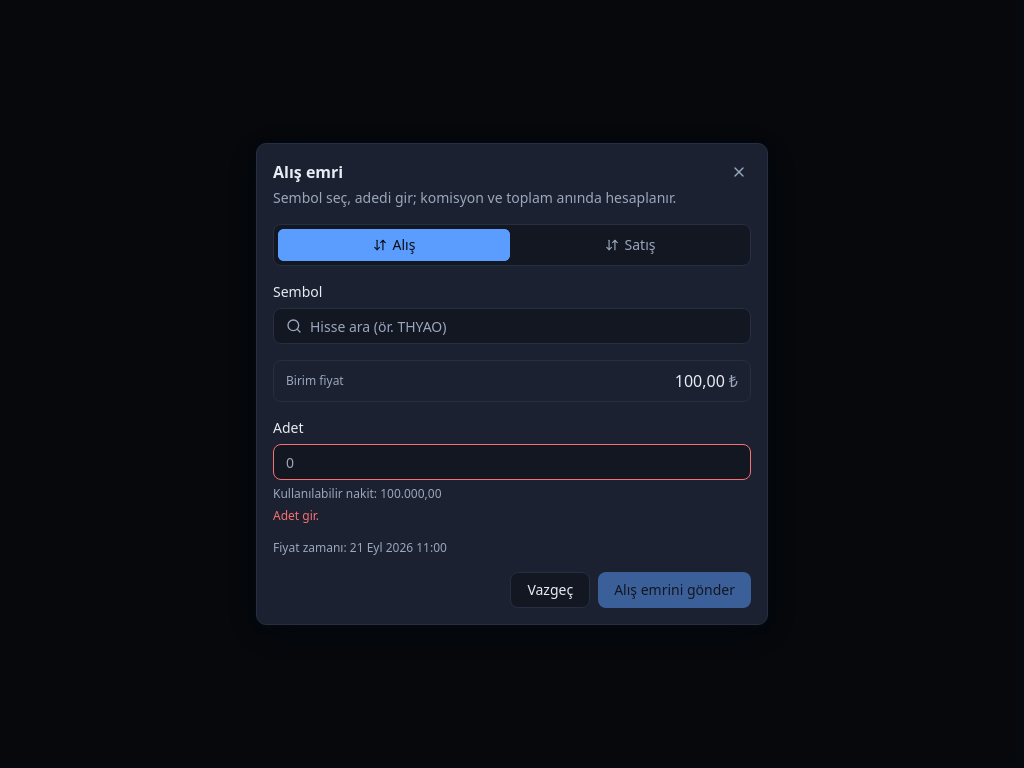
TradeDialog — seans kapısı (U-04) › backend error_market_closed dönerse i18n mesajını gösterir
expect the text "100,00" is shown: met, box [675,370,725,392]
Type "10" into the field labelled "Adet" at coordinates (512, 462), box [273,444,751,480]
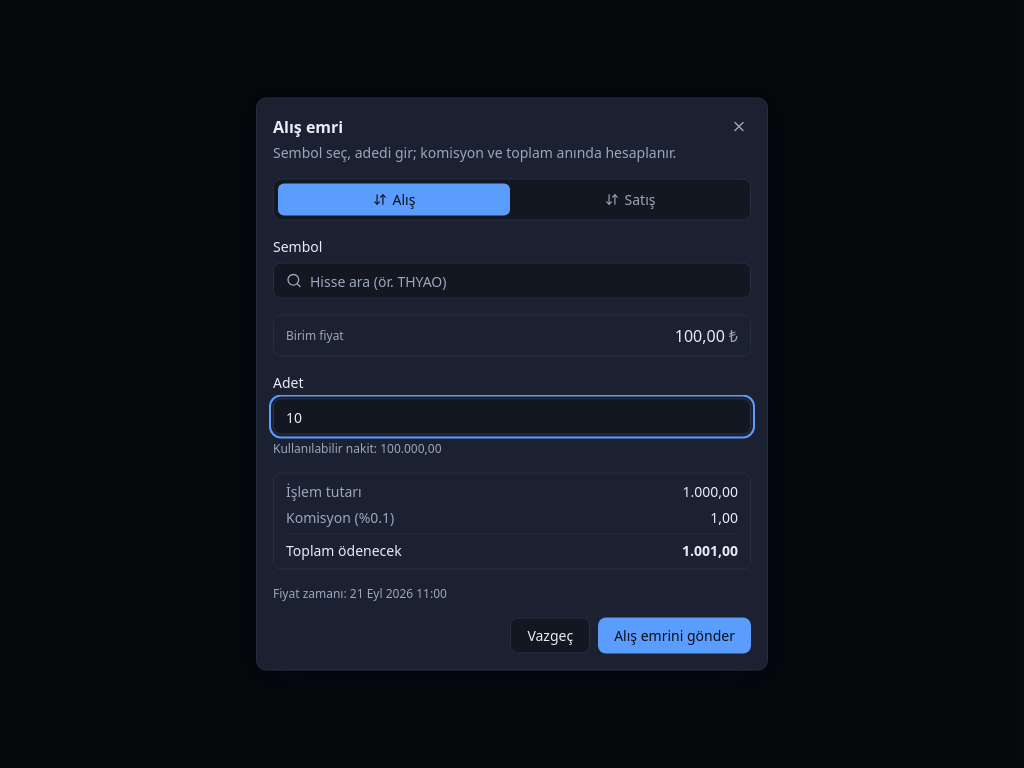
Click the button "Alış emrini gönder" at coordinates (675, 636), box [598,618,751,654]
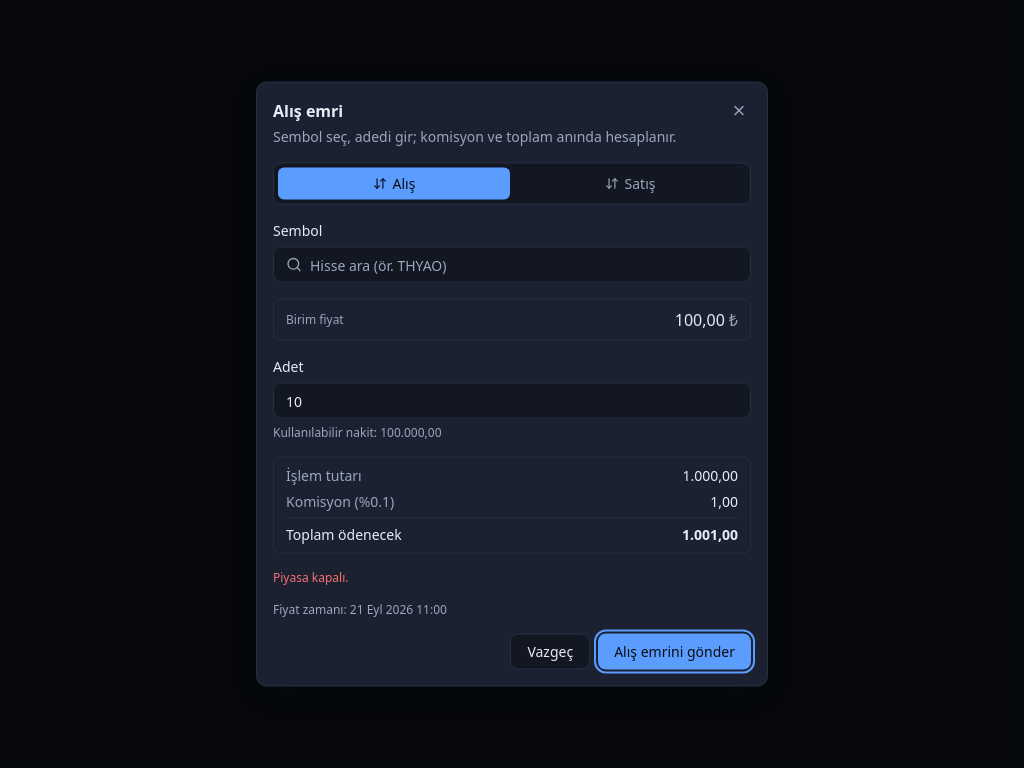
expect the message reads "Piyasa kapalı.": met, box [273,568,348,586]
